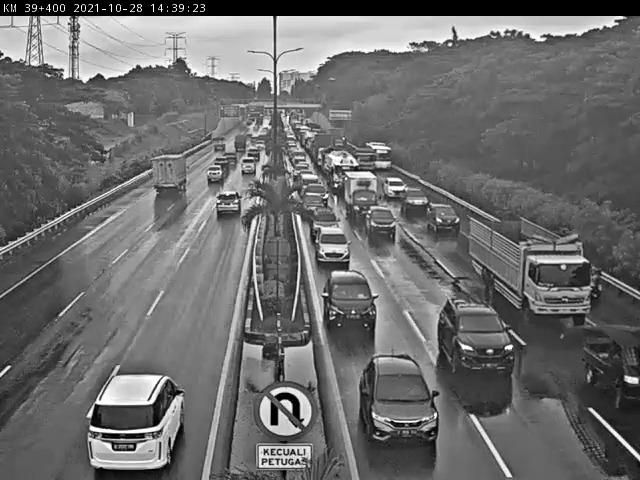car: (86, 375, 190, 472), (355, 355, 441, 445), (439, 296, 516, 372), (321, 272, 378, 330), (314, 226, 348, 261), (424, 203, 458, 231), (309, 205, 339, 235), (366, 206, 396, 236), (212, 192, 243, 218), (399, 187, 427, 210), (302, 183, 329, 203), (302, 193, 324, 216), (207, 164, 224, 183)
mid truck: (466, 214, 592, 321), (150, 154, 189, 193)
small truck: (582, 325, 640, 402), (344, 169, 378, 213)
